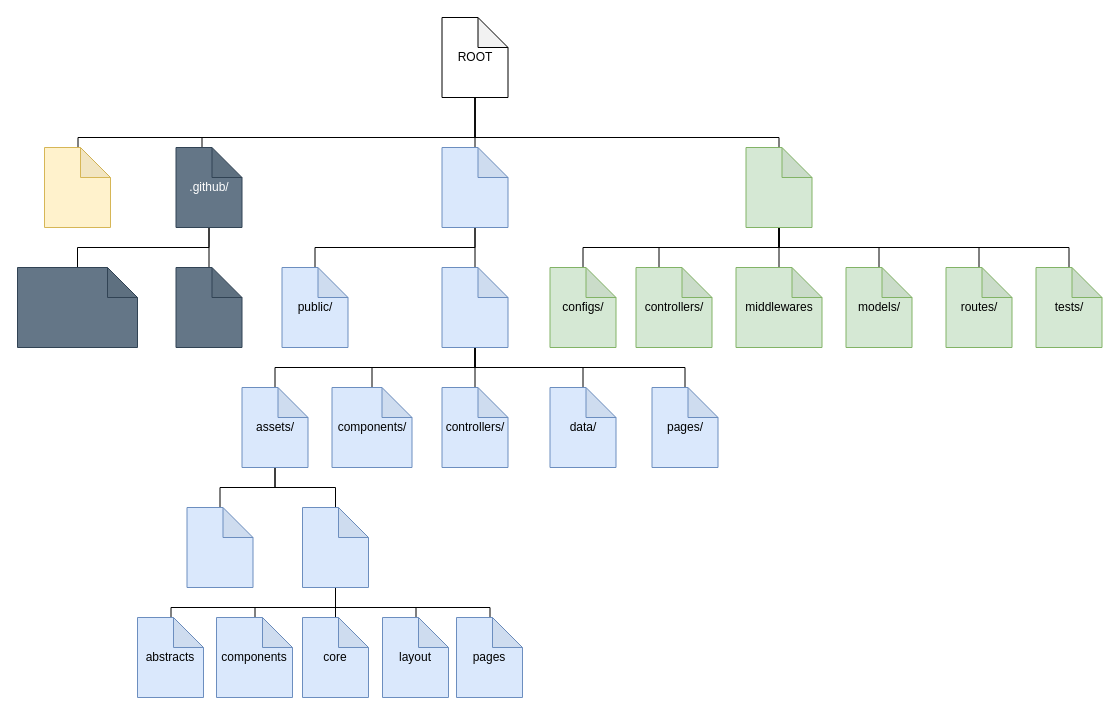
This 1120x715 diagram has some shape labels left out. Each missing label, with the centre of its shape:
backend/: point (778, 187)
docs/: point (77, 187)
frontend/: point (474, 187)
images/: point (219, 547)
ISSUE_TEMPLATE/: point (77, 307)
src/: point (474, 307)
styles/: point (335, 547)
workflows/: point (208, 307)
